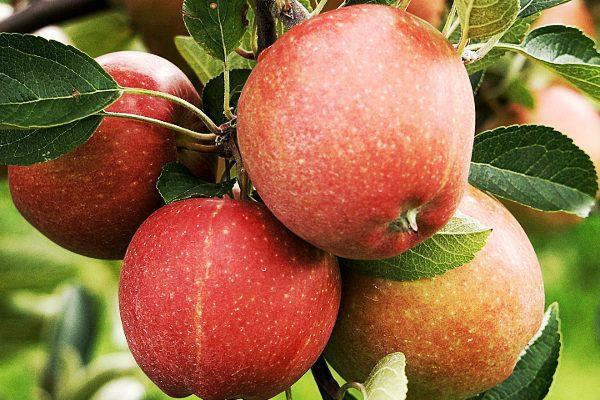apple: (239, 6, 460, 248), (325, 179, 546, 399), (119, 197, 343, 393), (7, 45, 209, 259), (404, 1, 444, 27)
